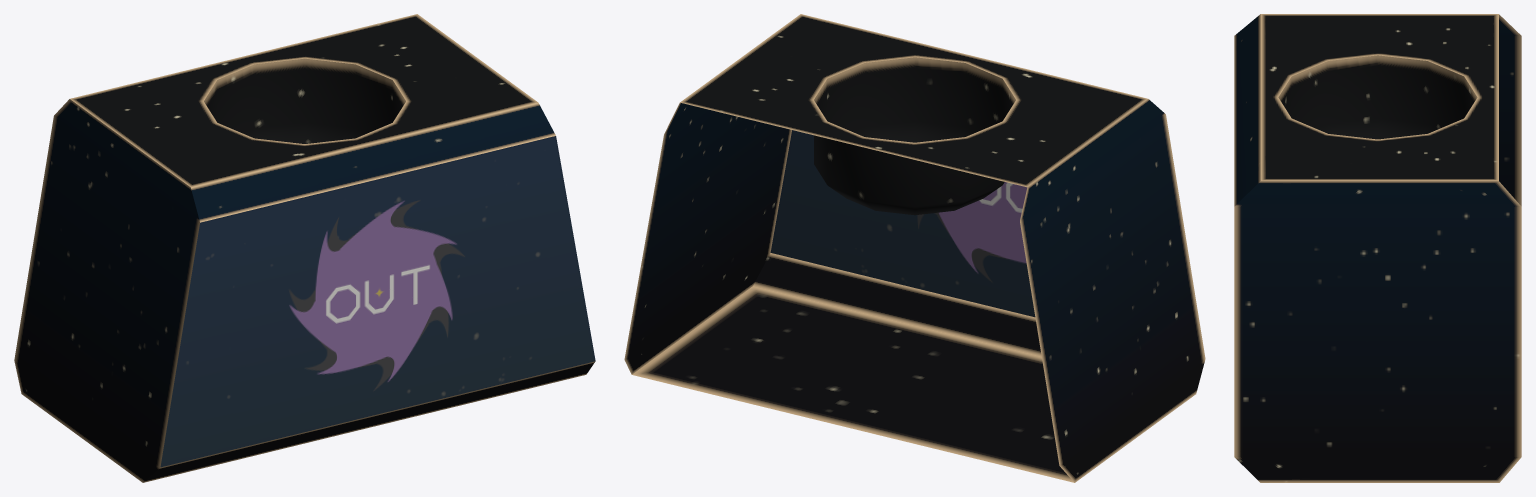
Rendered from donuts_OUT.fbx.
3 renders of one model, left to right at view 1: azimuth 30°, elevation 25°; view 2: azimuth 150°, elevation 25°; view 3: azimuth 270°, elevation 25°, orthographic.
Visible parts, largest first — view 1: donuts_OUT; view 2: donuts_OUT; view 3: donuts_OUT.
Boxes of the visible parts, bbox=[...] form: donuts_OUT: bbox=[14, 14, 595, 482]; donuts_OUT: bbox=[624, 14, 1205, 482]; donuts_OUT: bbox=[1234, 14, 1521, 482].
Bounding box in the file's own units: 3.19 × 1.95 × 1.82.
